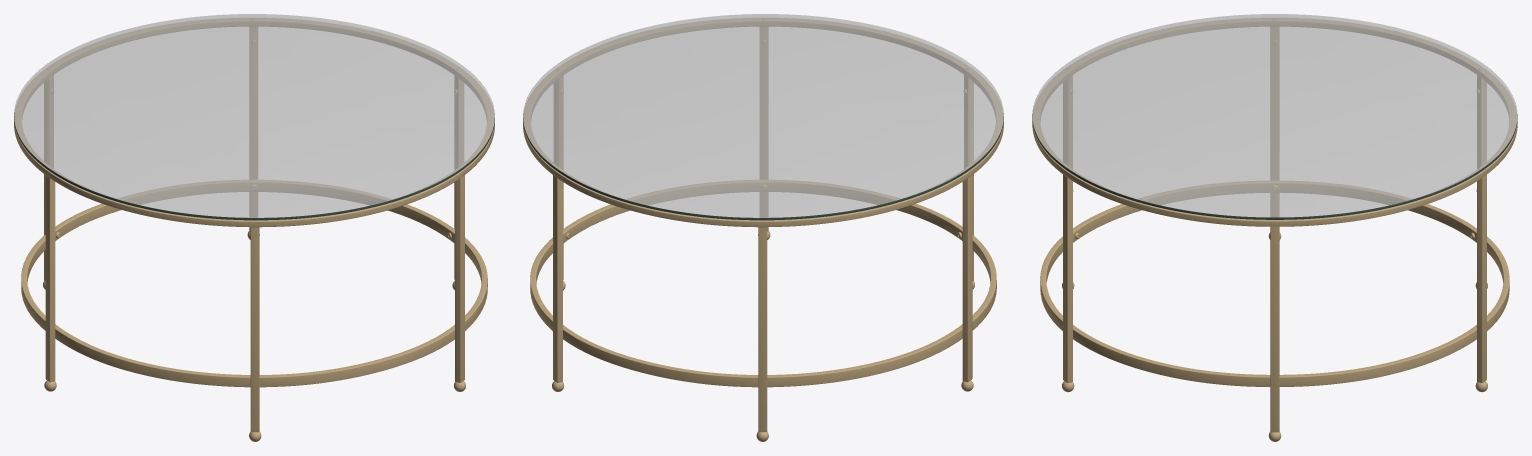
Rendered from abo-B074KLRCPW.glb.
3 renders of one model, left to right at view 1: azimuth 30°, elevation 25°; view 2: azimuth 150°, elevation 25°; view 3: azimuth 270°, elevation 25°, orthographic.
Bounding box in the file's own units: 0.914 × 0.47 × 0.914.
2 materials, 2 textured.
